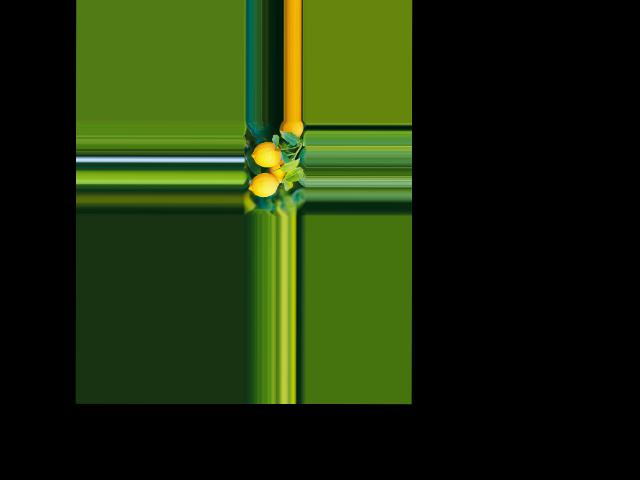lemon: (249, 173, 279, 197)
